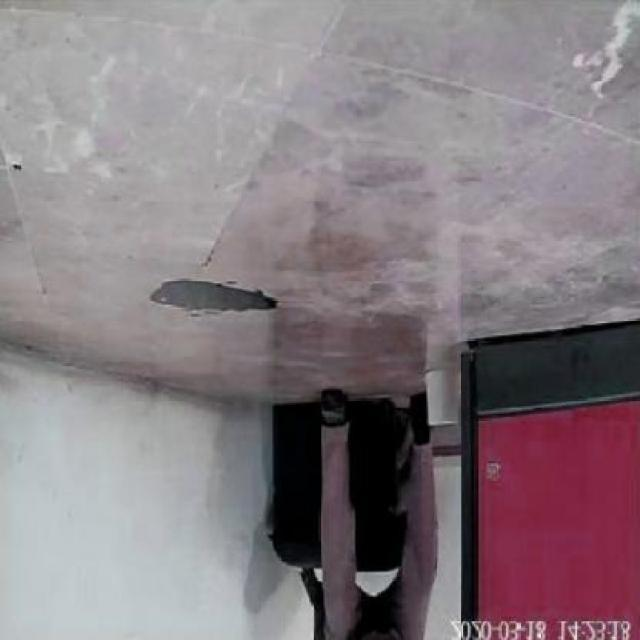spillage: (145, 276, 289, 316)
